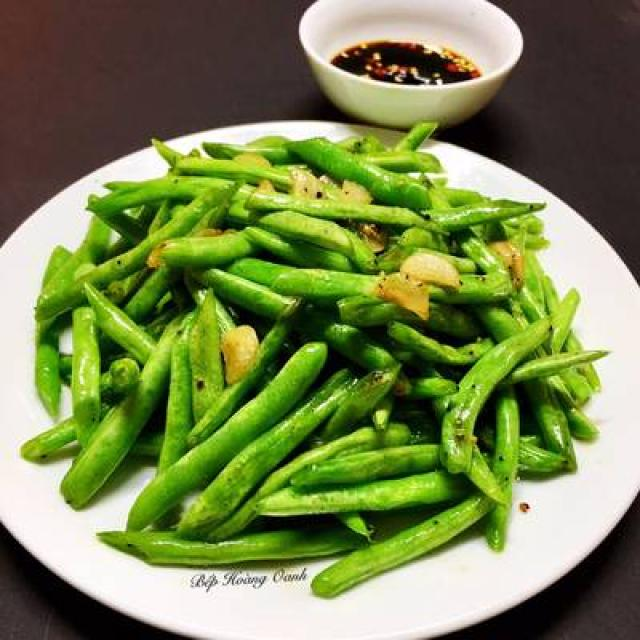dau que: (19, 122, 608, 595)
nuoc tuong: (333, 42, 480, 85)
